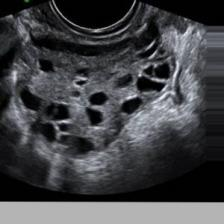pcos: (4, 30, 182, 162)
